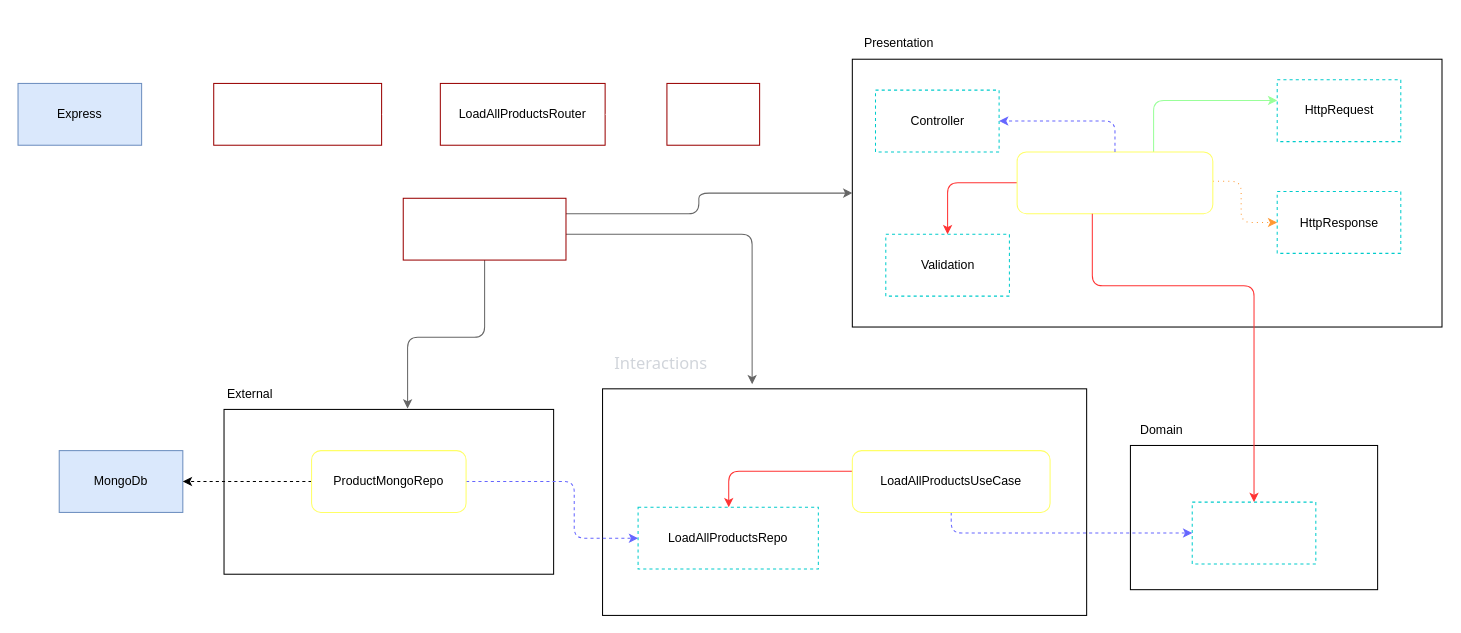
This 1461x633 diagram has some shape labels left out. The box of each missing label's shape, as (x1, y1, x2, y2) in pixels:
App: (666, 82, 760, 145)
ExpressRouterAdapter: (213, 82, 382, 145)
LoadAllProducts: (1191, 501, 1316, 564)
LoadAllProductsController: (1016, 151, 1213, 214)
LoadAllProductsFactory: (402, 197, 566, 260)
